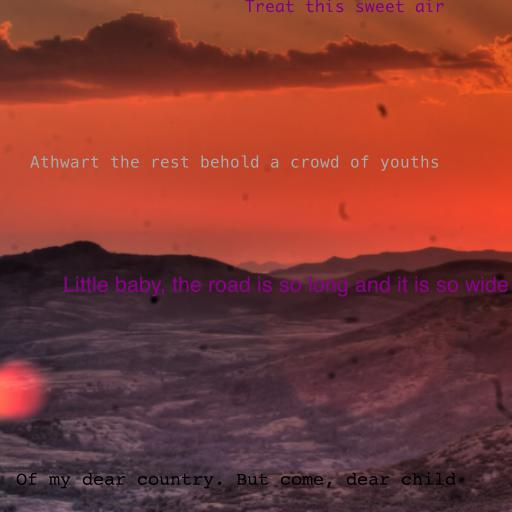Apple Chancery: (63, 276, 509, 297)
Courier: (16, 472, 456, 489)
Menlo: (30, 155, 440, 171)
Monaco: (245, 0, 445, 13)
